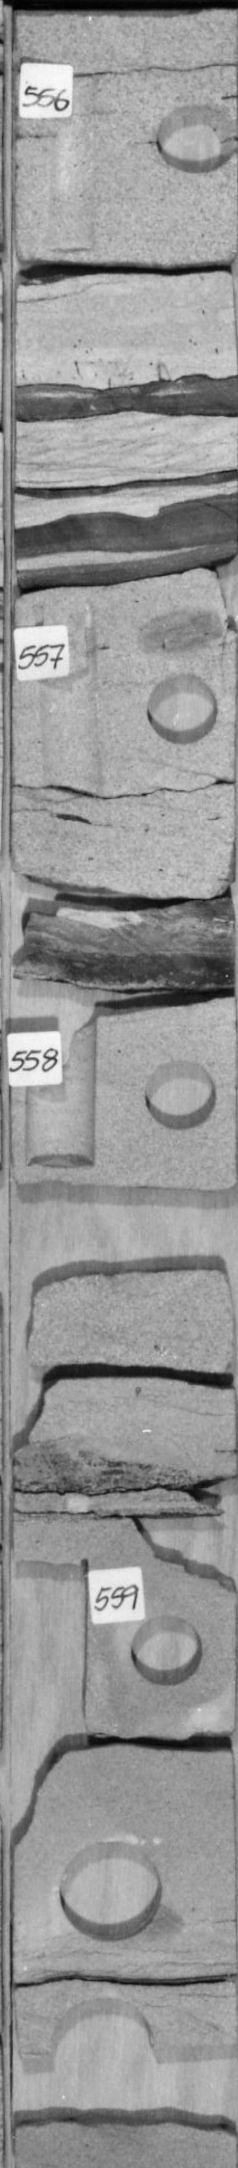hplug: (135, 665, 228, 750), (135, 1052, 226, 1138), (146, 94, 238, 179), (126, 1610, 208, 1690)
scal: (51, 1830, 168, 1943), (39, 1987, 157, 2072)
vplug: (11, 1550, 95, 1754), (31, 592, 113, 794), (24, 1010, 102, 1174), (39, 67, 104, 258)
